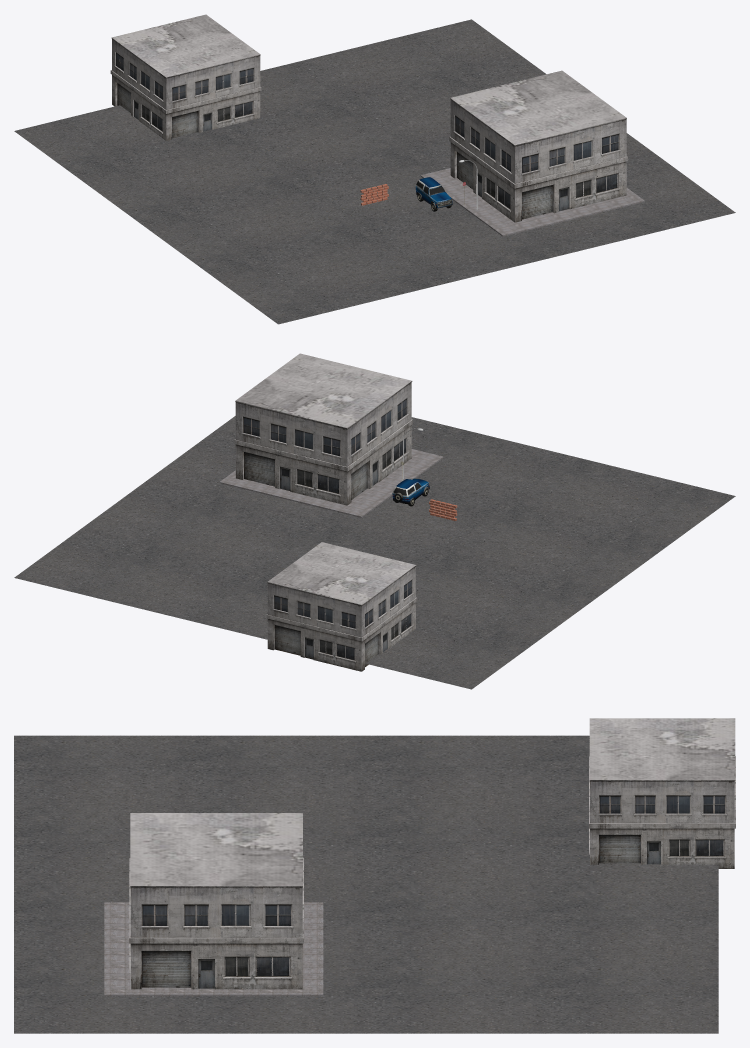
The model's file is bronco3.obj.
3 views of the same model, one above another, from view 1: azimuth 30°, elevation 25°; view 2: azimuth 150°, elevation 25°; view 3: azimuth 270°, elevation 25° (orthographic). The views are drawn at different scales.
Parts seen in each view (by area): view 1: Street, building, building2, pavement, Bronco; view 2: Street, building, building2, pavement, Bronco; view 3: Street, building, building2, pavement.
Part boxes in pixels (left/top/right/bottom): Street: left=14, top=19, right=735, bottom=324; building: left=449, top=70, right=627, bottom=222; building2: left=110, top=14, right=261, bottom=140; pavement: left=420, top=168, right=644, bottom=236; Bronco: left=415, top=177, right=452, bottom=211; Street: left=14, top=416, right=735, bottom=689; building: left=234, top=353, right=412, bottom=505; building2: left=266, top=542, right=417, bottom=671; pavement: left=219, top=449, right=443, bottom=517; Bronco: left=392, top=478, right=429, bottom=506; Street: left=14, top=735, right=718, bottom=1033; building: left=129, top=813, right=303, bottom=989; building2: left=589, top=718, right=735, bottom=868; pavement: left=104, top=902, right=323, bottom=996.
Bounding box in the file's own units: 17.89 × 3.17 × 18.32.
